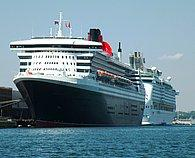Ship: (8, 10, 150, 129)
